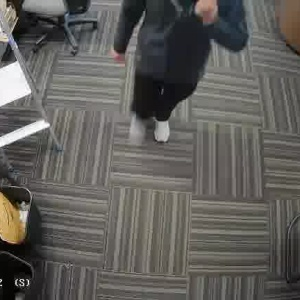person: (124, 0, 226, 155)
